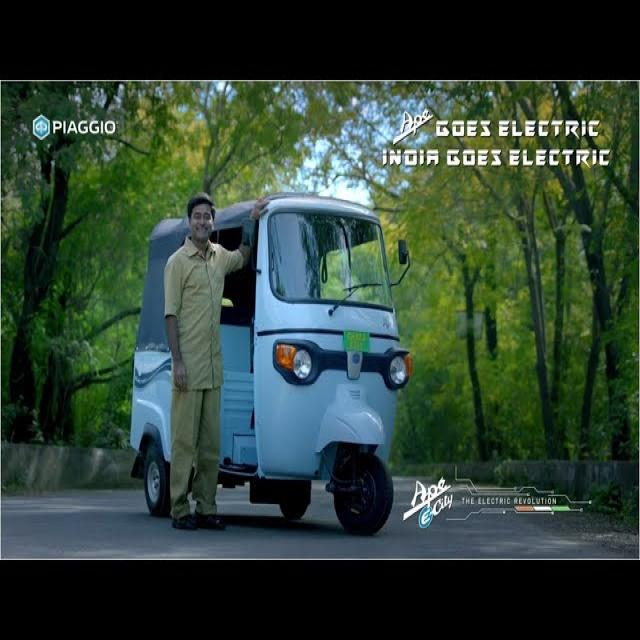autorickshaw: (213, 193, 412, 533), (130, 218, 188, 516)
